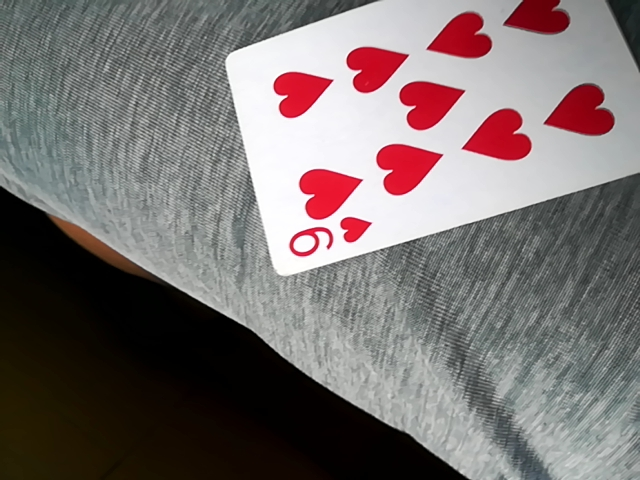hx 9: (223, 0, 638, 276)
